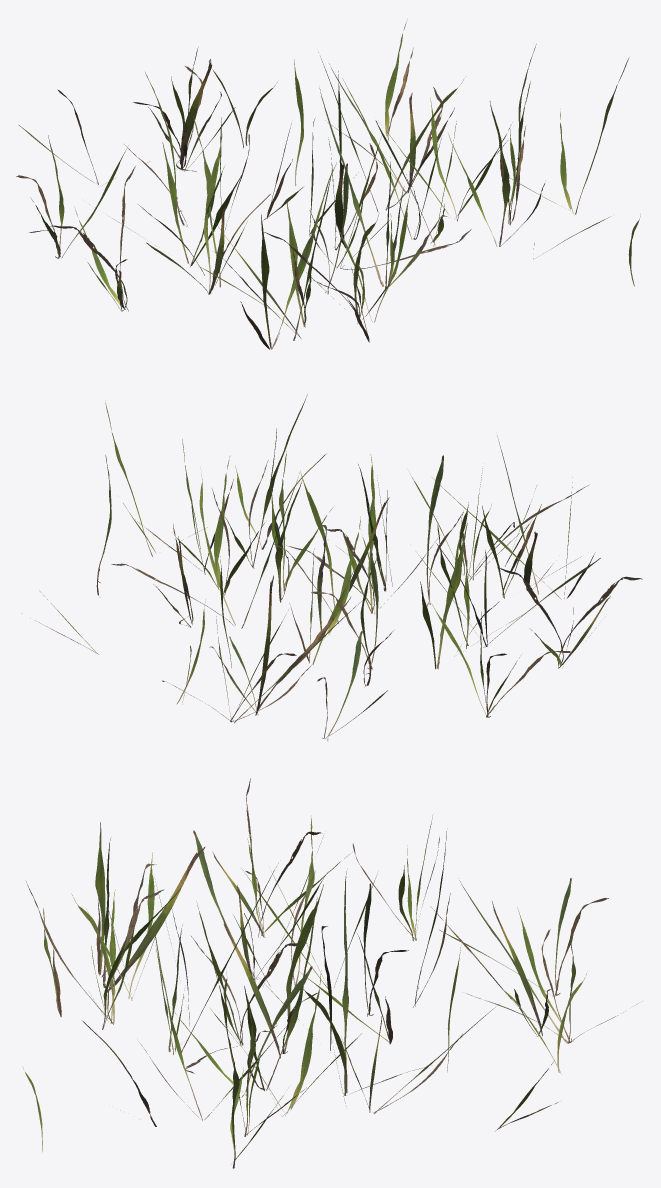
File: grass_1_1.FBX
3 renders of one model, top to bottom at view 1: azimuth 30°, elevation 25°; view 2: azimuth 150°, elevation 25°; view 3: azimuth 270°, elevation 25°, orthographic. The views are drawn at different scales.
Visible parts, largest first — view 1: grass_1_01; view 2: grass_1_01; view 3: grass_1_01.
Boxes of the visible parts, x1,y1,x2,y2 form: grass_1_01: (16, 19, 640, 349); grass_1_01: (21, 394, 642, 741); grass_1_01: (22, 778, 638, 1168).
Bounding box in the file's own units: 75.29 × 23.13 × 66.44.
Materials: 1 (1 with a texture image).
